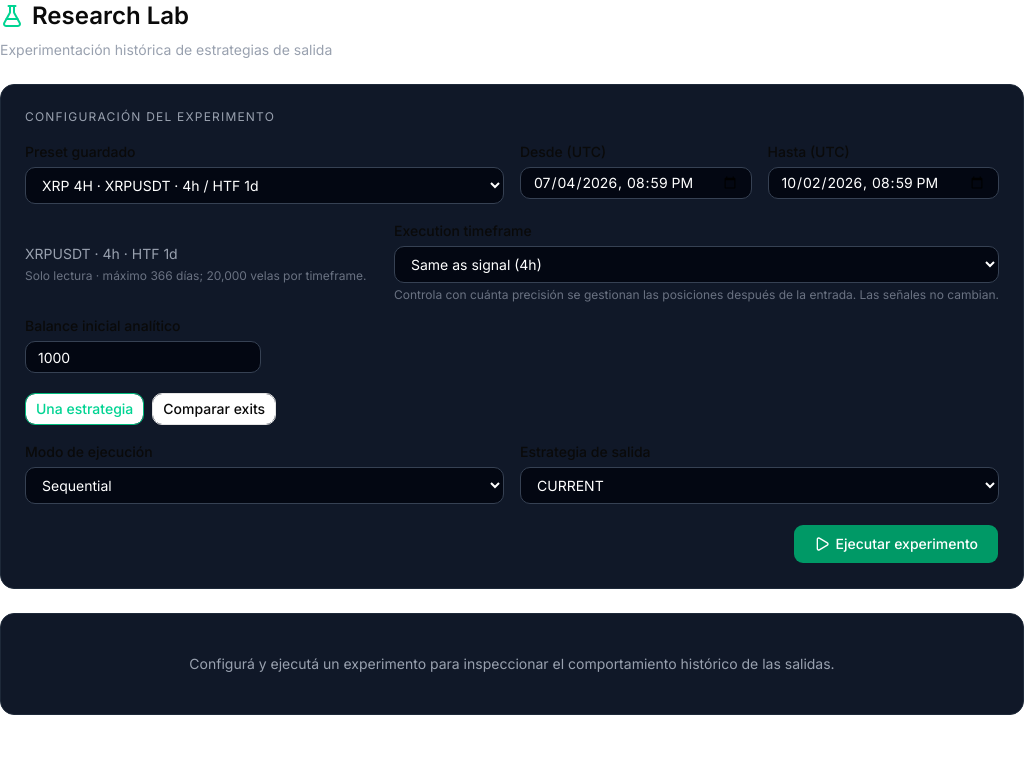
Test: Execution timeframe in the results › does not show the replay note when execution equals the signal timeframe
The image size is (1024, 758).
Expected: the dropdown labelled "Preset guardado" is shown, [25,167,504,204]
Click the button "Ejecutar experimento" at (896, 544), box [792,524,999,564]
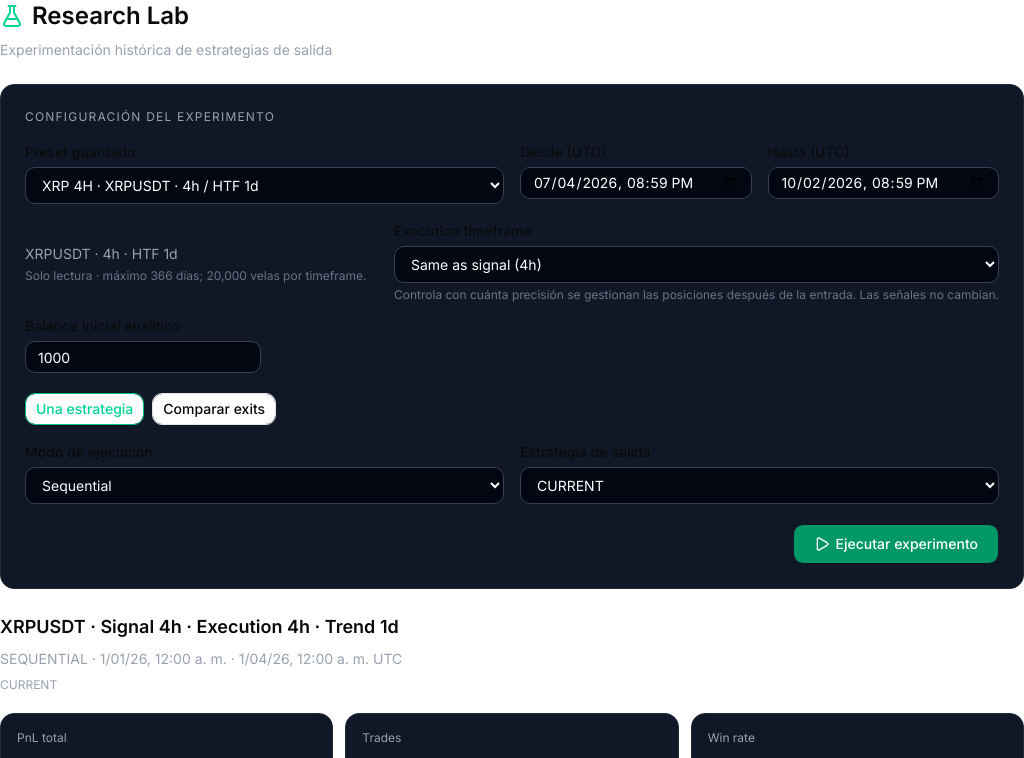
Now the heading "XRPUSDT · Signal 4h · Execution 4h · Trend 1d" is shown, box [0,616,399,637]
